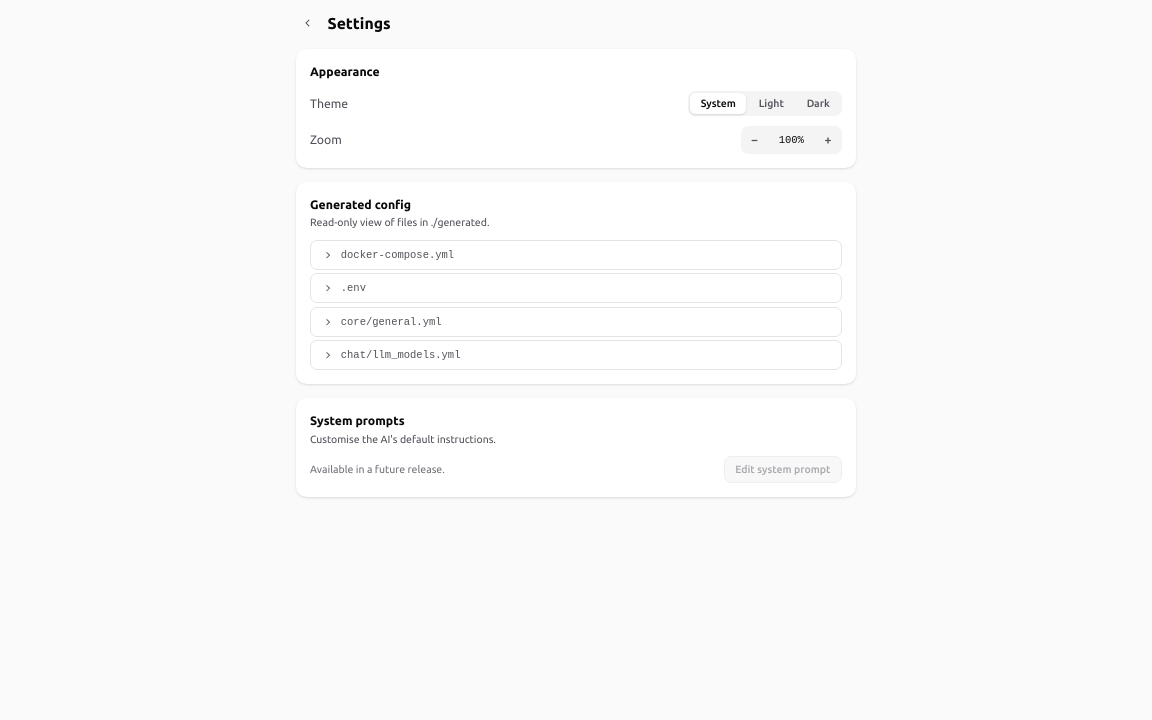
it: settings/+page.svelte › clicking edit-prompt button opens coming-soon modal
Step 1. Click the button with test id "edit-prompt-btn" → [783, 469], box [724,456,842,482]
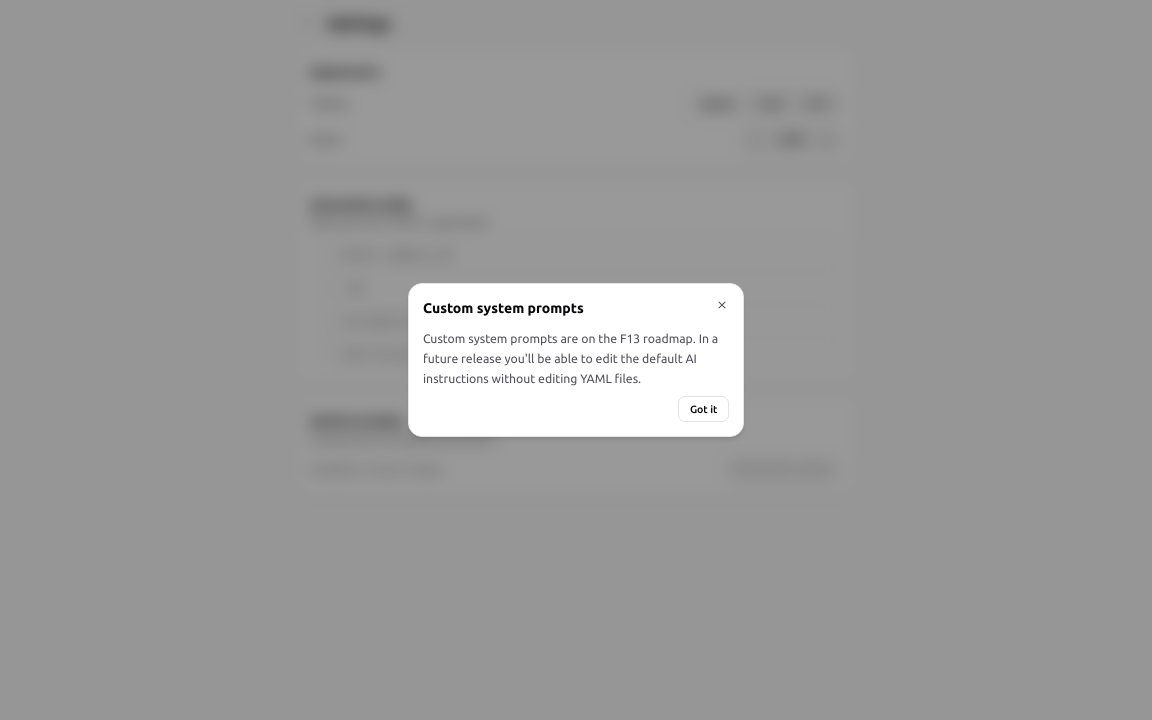
Expected: the dialog "Custom system prompts" is shown, [408,283,744,437]
